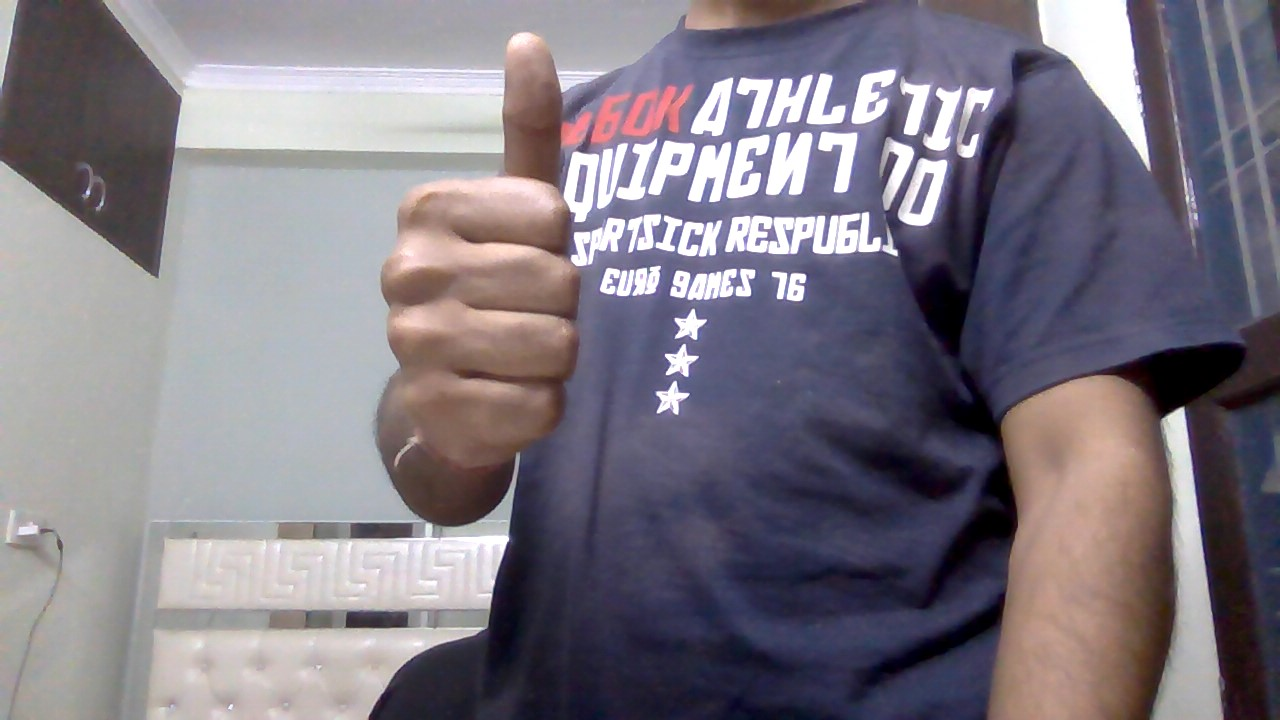Save: (362, 23, 594, 494)
